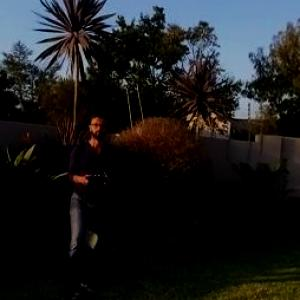follow: (59, 103, 124, 299)
